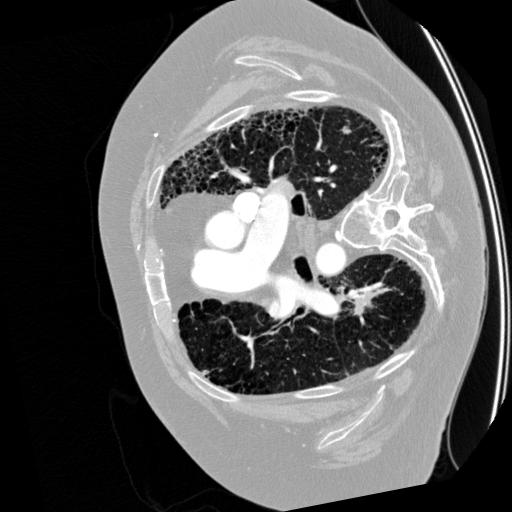nodule: (339, 122, 353, 136)
